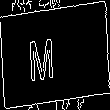M_N: (41, 27, 69, 83)
